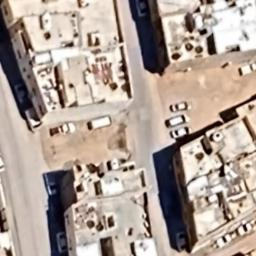pickup: (48, 121, 77, 138)
sedan: (168, 125, 196, 140), (168, 98, 194, 114)
van: (163, 112, 192, 128)
